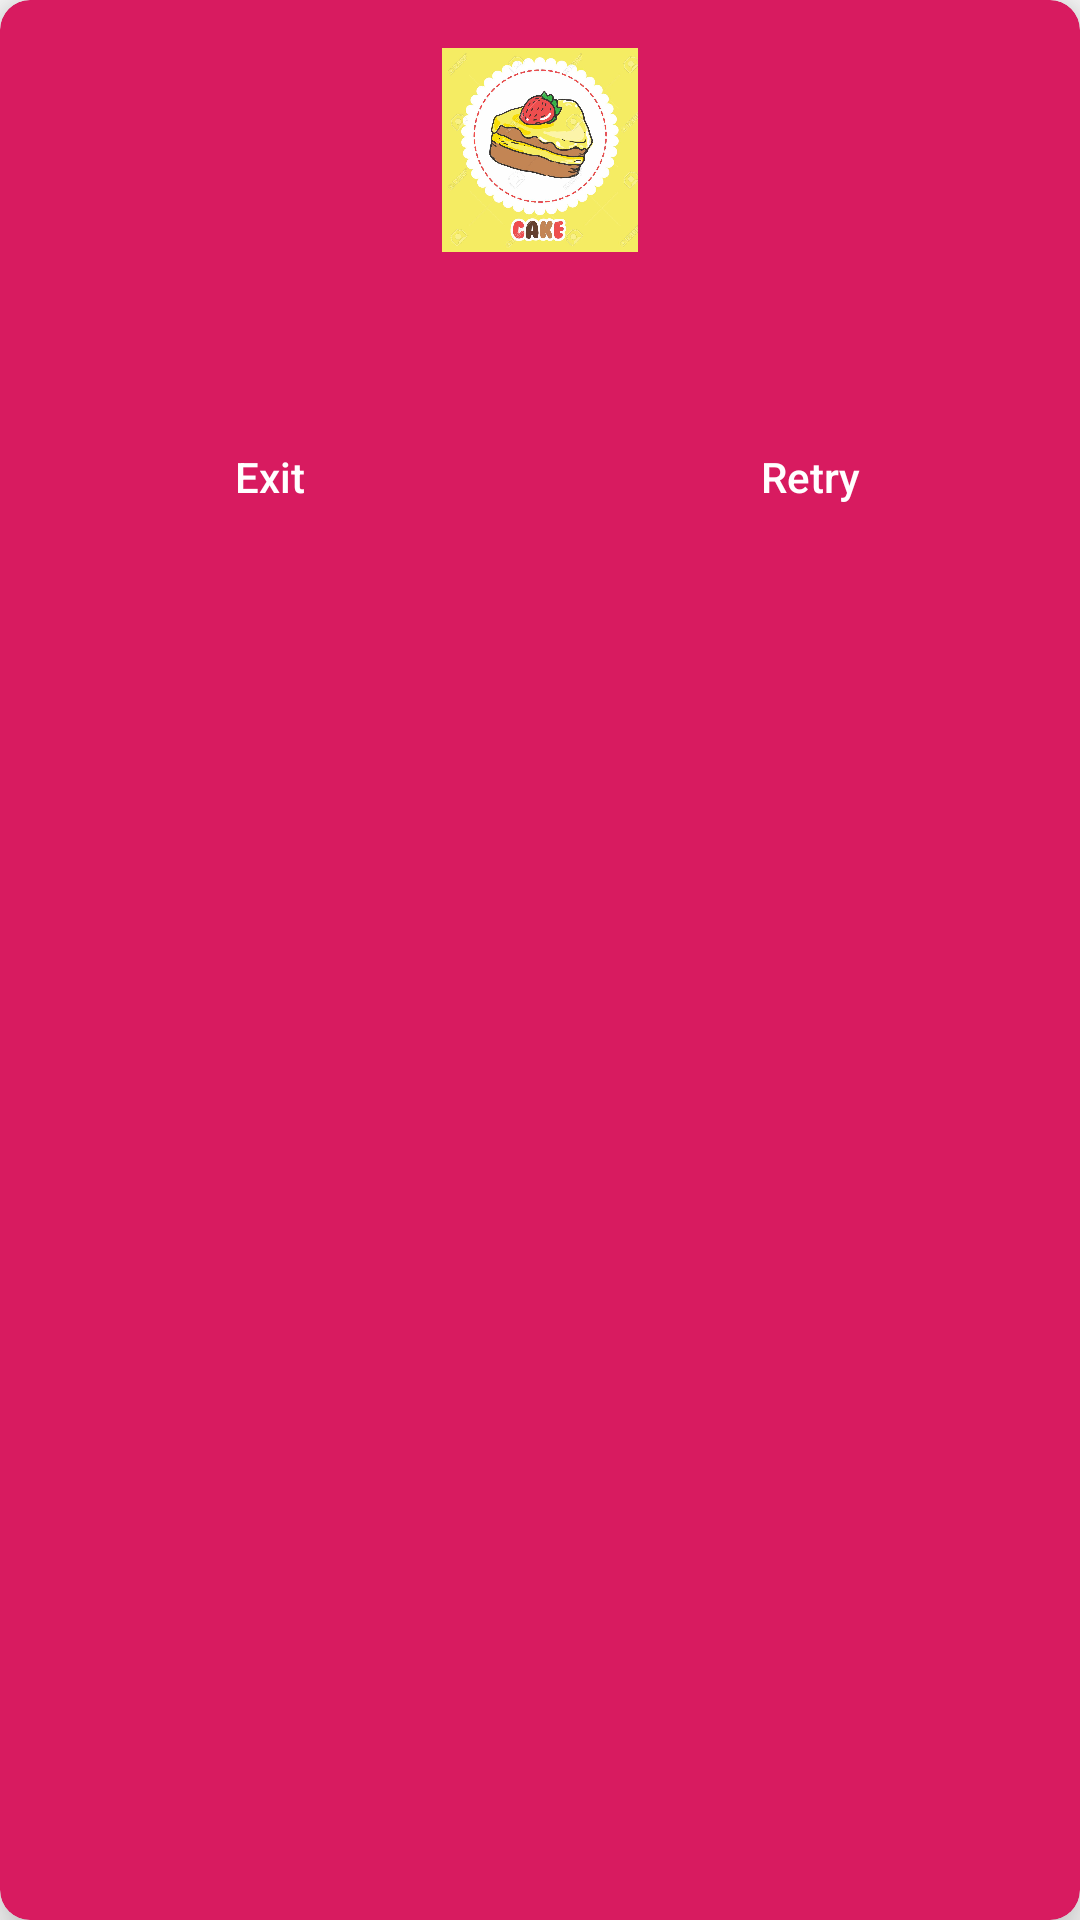

Named icons in this screenshot (1080px×1920px) and their bounding boxes, (x1,y1,x2,y2):
Recipe icon: (442,48,638,252)
